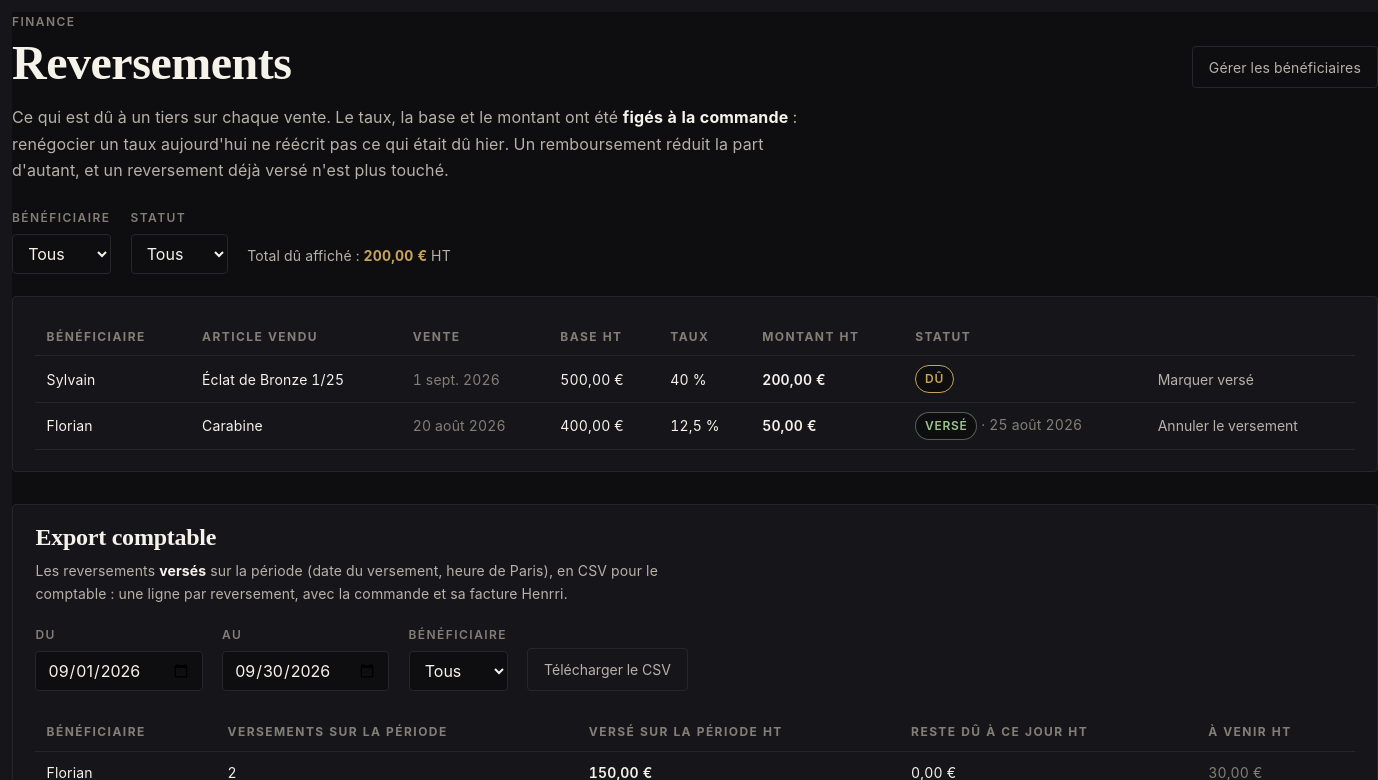
it: admin/reversements.vue (story 11.10) › relays the server's refusal to settle an unpaid sale
Click the button "Marquer versé" at (1206, 379), box [1158,368,1254,391]
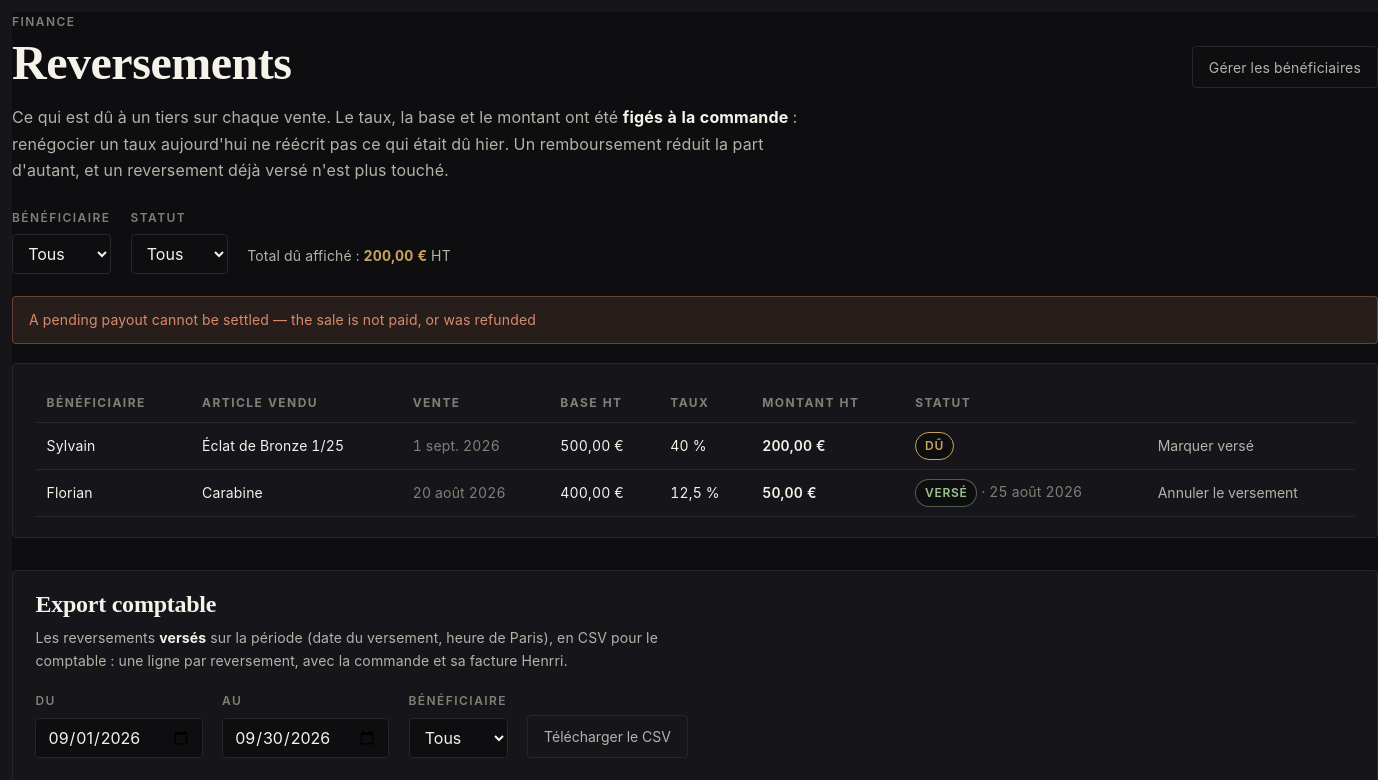
Check: the message with class "alert" shows "not paid", box [29,311,536,328]
